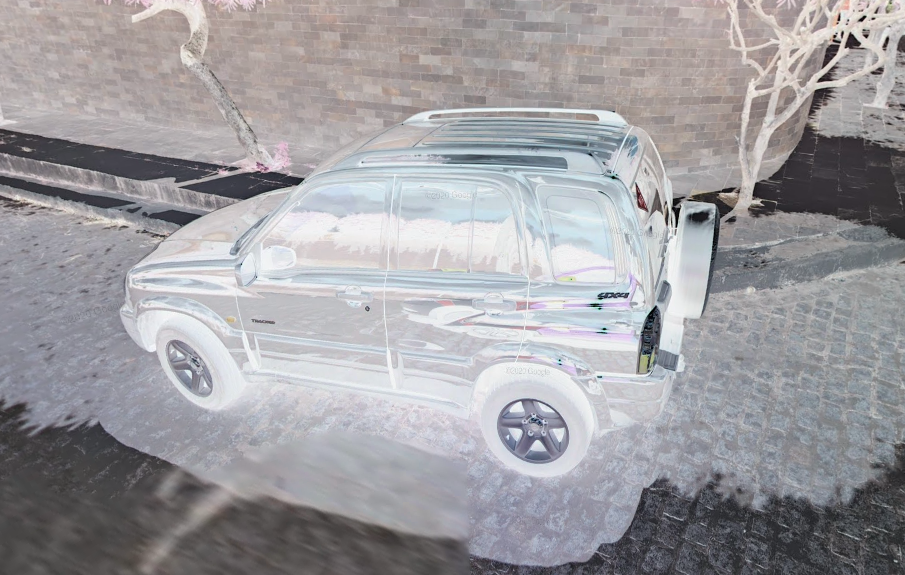car: (117, 103, 724, 481)
